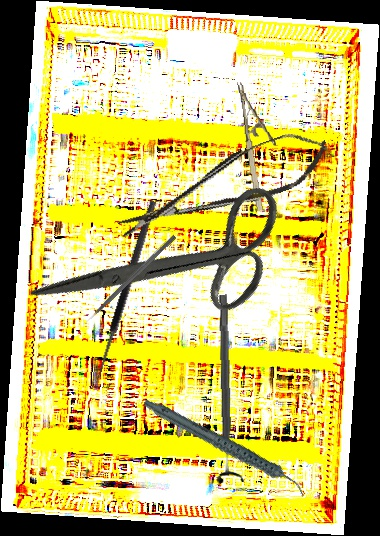Fixation Ring: (209, 294, 245, 483)
Handpiece: (141, 369, 308, 527)
Hook Surgical: (92, 200, 167, 388), (80, 233, 177, 327)
Iris Scissors: (28, 120, 313, 406)
Micro Scissor: (108, 122, 337, 249)
Needle Holder: (237, 78, 284, 212)
